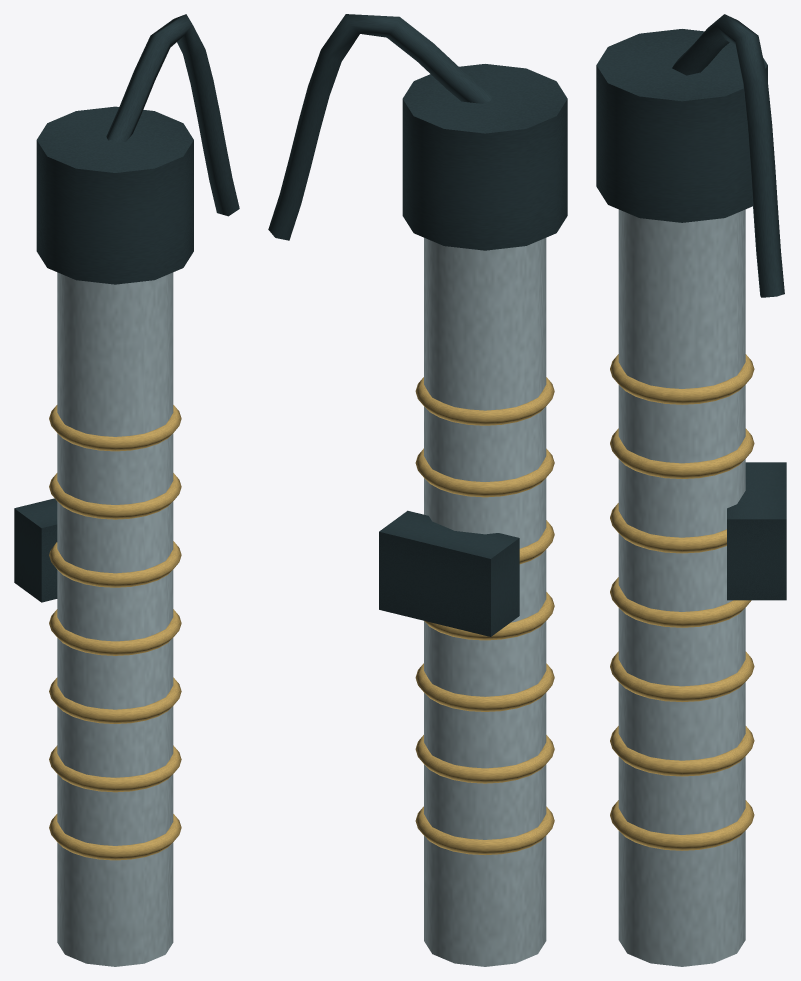
The model's file is heater_2.glb.
3 renders of one model, left to right at view 1: azimuth 30°, elevation 25°; view 2: azimuth 150°, elevation 25°; view 3: azimuth 270°, elevation 25°, orthographic. The views are drawn at different scales.
Parts seen in each view (by area): view 1: static_ornament; view 2: static_ornament; view 3: static_ornament.
Boxes of the visible parts, x1,y1,x2,y2 form: static_ornament: (14,14,239,966); static_ornament: (268,14,567,966); static_ornament: (596,14,786,966).
Bounding box in the file's own units: 0.3905 × 1.42 × 0.255.
Materials: 1 (1 with a texture image).
